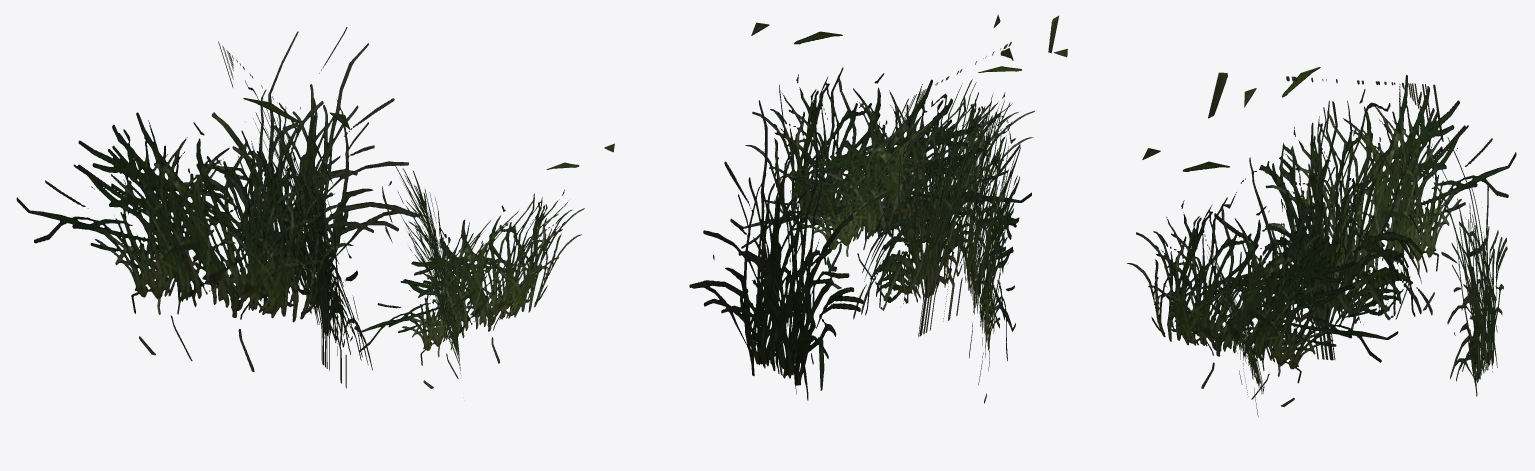
The model's file is forest_grass_003_b_LOD2.gltf.
3 views of the same model, side by side, from view 1: azimuth 30°, elevation 25°; view 2: azimuth 150°, elevation 25°; view 3: azimuth 270°, elevation 25° (orthographic). The views are drawn at different scales.
Parts seen in each view (by area): view 1: meadow_grass_002_b_LOD2; view 2: meadow_grass_002_b_LOD2; view 3: meadow_grass_002_b_LOD2.
Boxes of the visible parts, bbox=[...] form: meadow_grass_002_b_LOD2: bbox=[16, 27, 614, 388]; meadow_grass_002_b_LOD2: bbox=[689, 14, 1067, 403]; meadow_grass_002_b_LOD2: bbox=[1127, 67, 1516, 416].
Size of the model in its own units: 1.1 by 0.6866 by 1.03.
